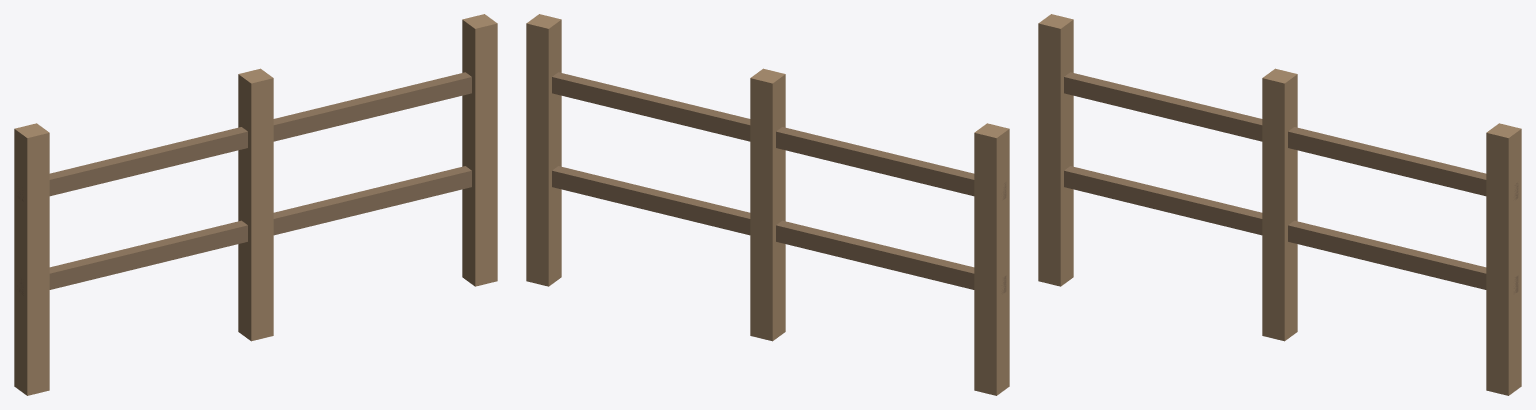
Rendered from fence_section.glb.
3 views of the same model, side by side, from view 1: azimuth 30°, elevation 25°; view 2: azimuth 150°, elevation 25°; view 3: azimuth 330°, elevation 25° (orthographic).
Visible parts, largest first — view 1: fence_section; view 2: fence_section; view 3: fence_section.
Boxes of the visible parts, bbox=[...] form: fence_section: bbox=[14, 14, 497, 395]; fence_section: bbox=[526, 14, 1009, 395]; fence_section: bbox=[1038, 14, 1521, 395].
Size of the model in its own units: 2.1 by 1.1 by 0.1.
